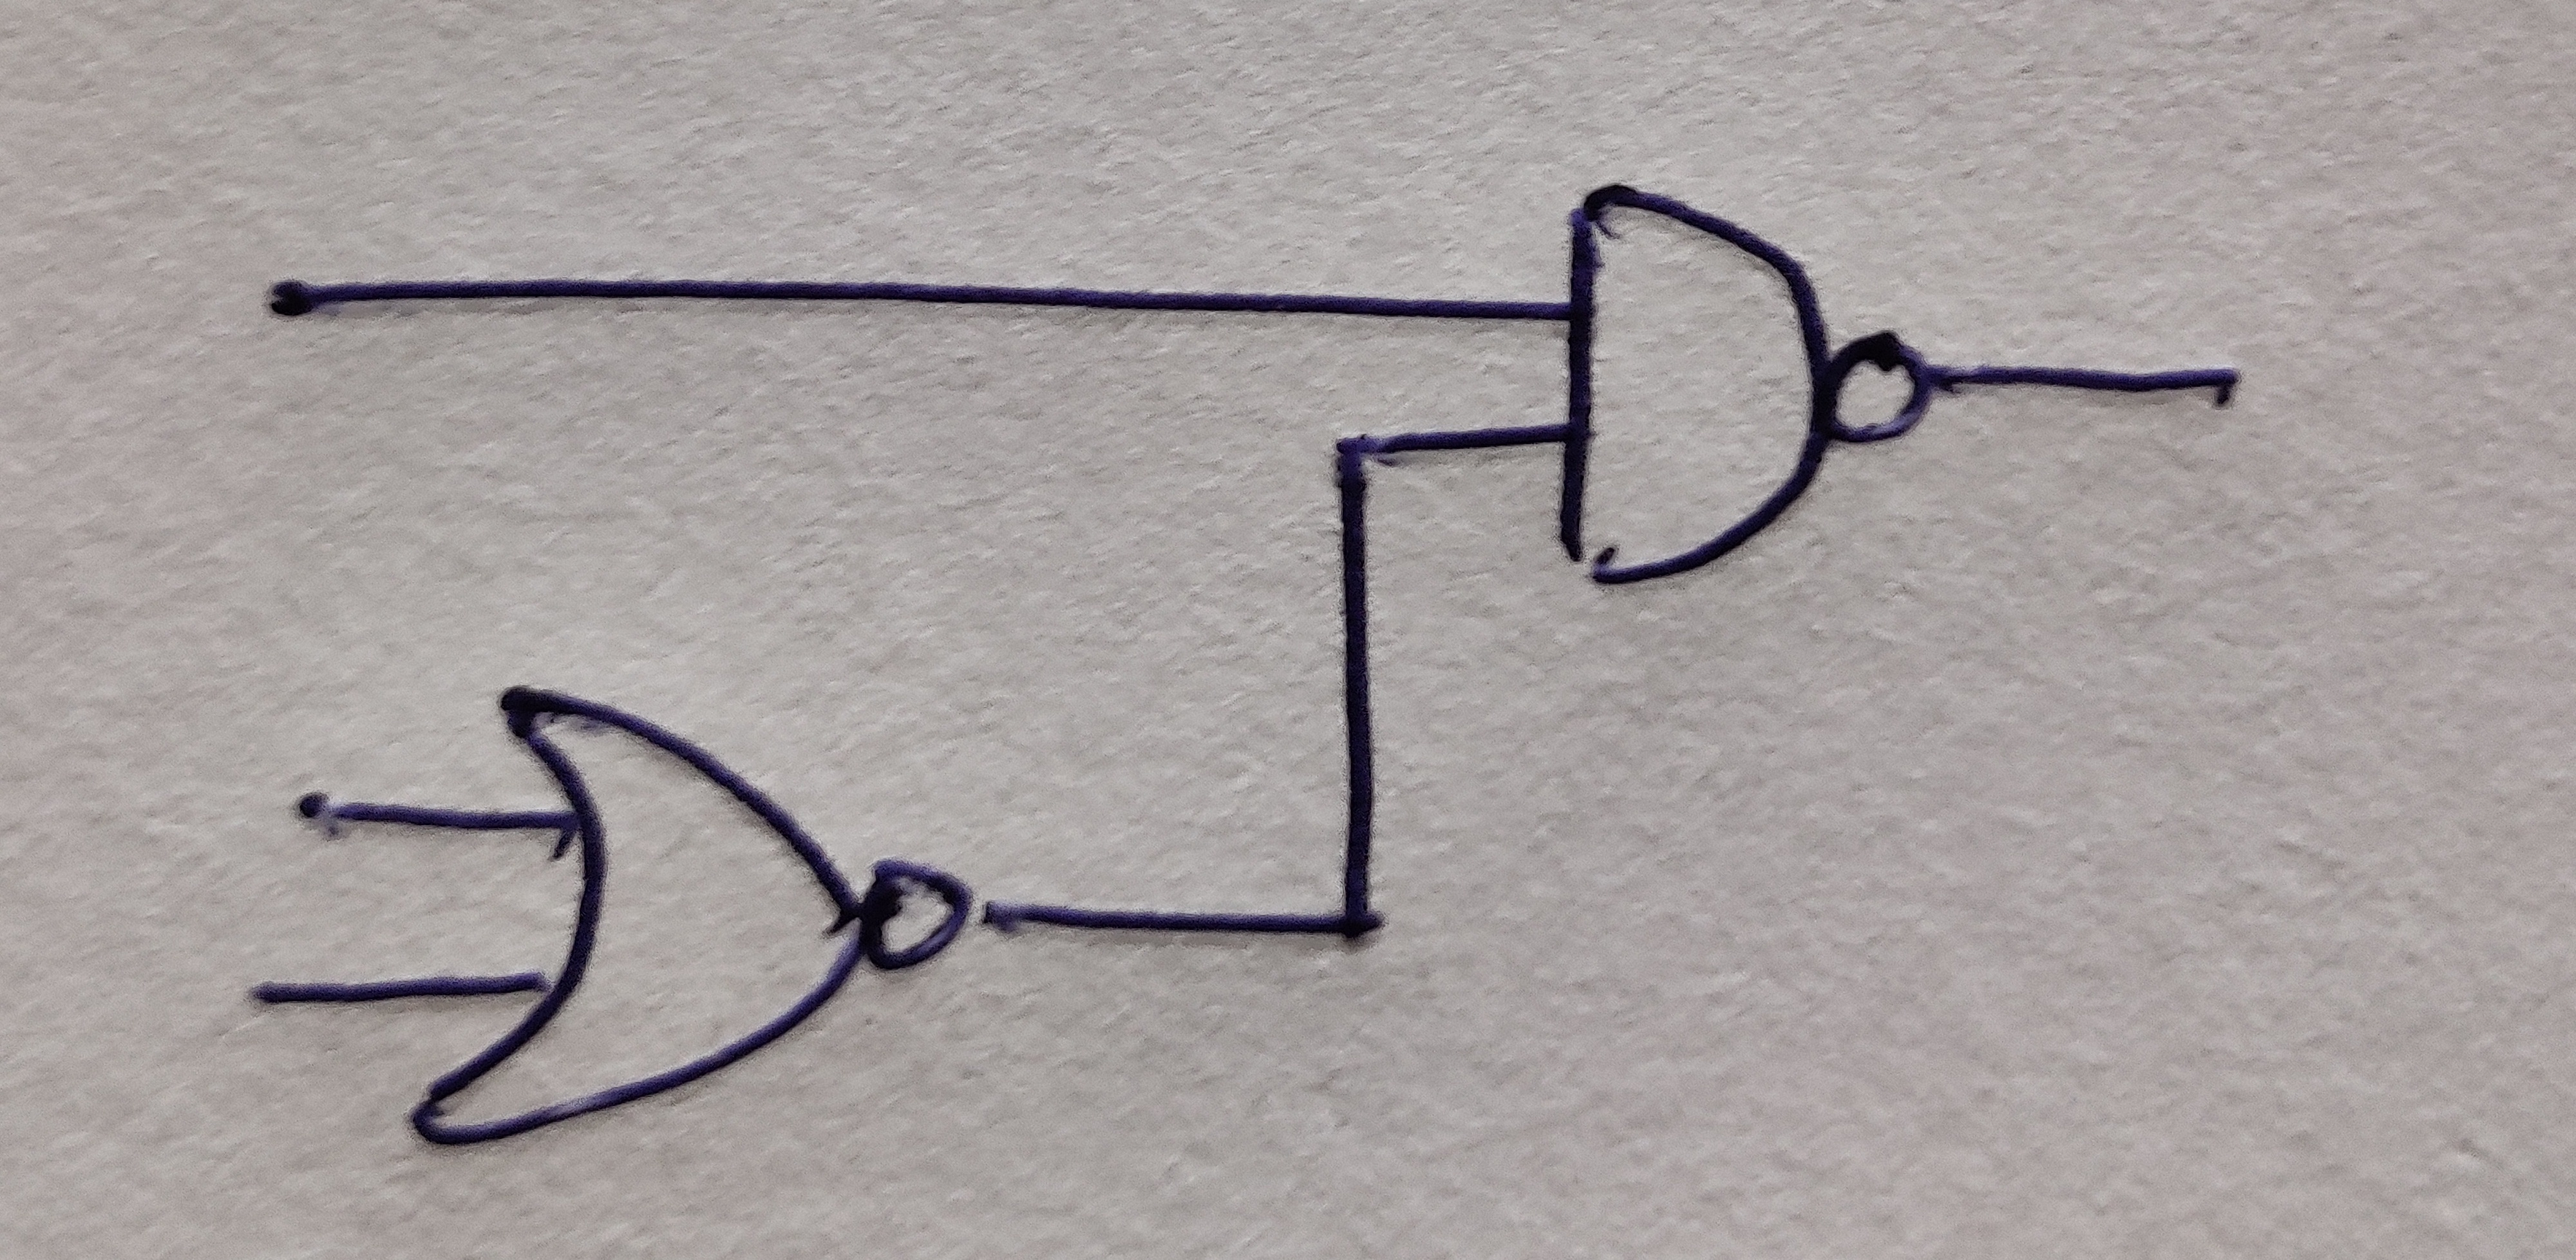and: (1562, 186, 1828, 585)
not: (861, 862, 973, 973), (1825, 333, 1929, 447)
or: (411, 690, 867, 1145)
